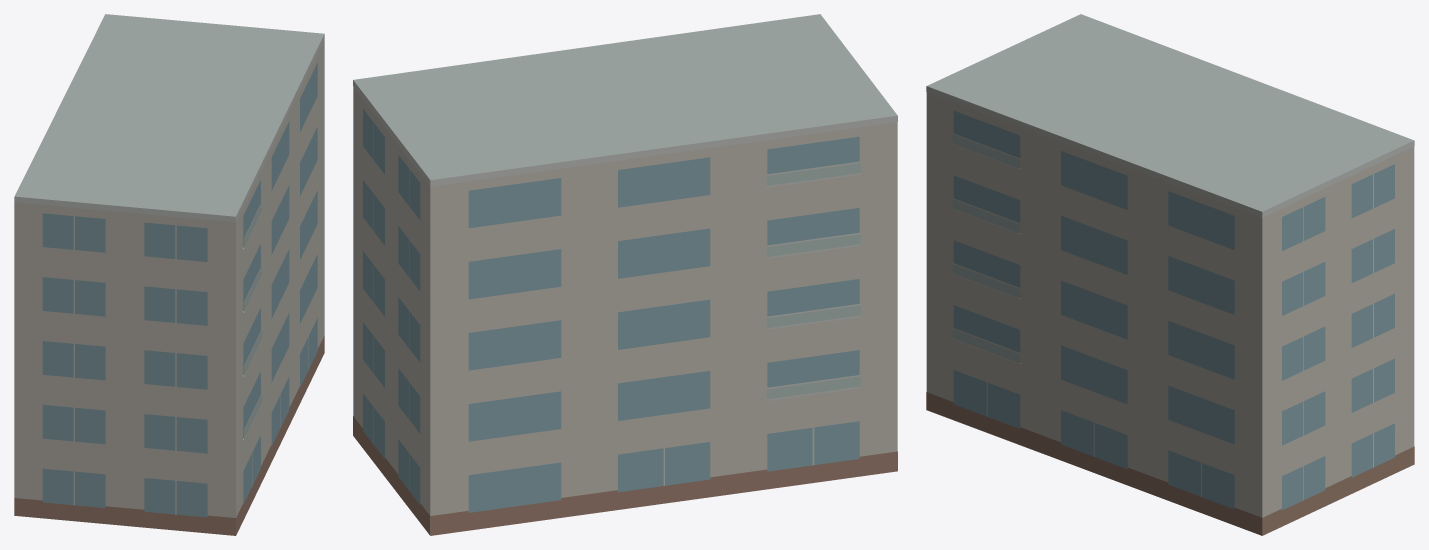
File: survey-upis-32531272.glb
3 renders of one model, left to right at view 1: azimuth 30°, elevation 25°; view 2: azimuth 150°, elevation 25°; view 3: azimuth 270°, elevation 25°, orthographic. The views are drawn at different scales.
Parts seen in each view (by area): view 1: survey-upis-32531272.tmp; view 2: survey-upis-32531272.tmp; view 3: survey-upis-32531272.tmp.
Part boxes in pixels (x1,y1,x2,y2): survey-upis-32531272.tmp: (14, 14, 324, 535); survey-upis-32531272.tmp: (353, 14, 897, 535); survey-upis-32531272.tmp: (926, 14, 1414, 535).
Bounding box in the file's own units: 17.56 × 13.4 × 18.29.
